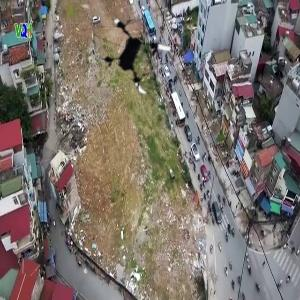drone: (97, 14, 182, 99)
